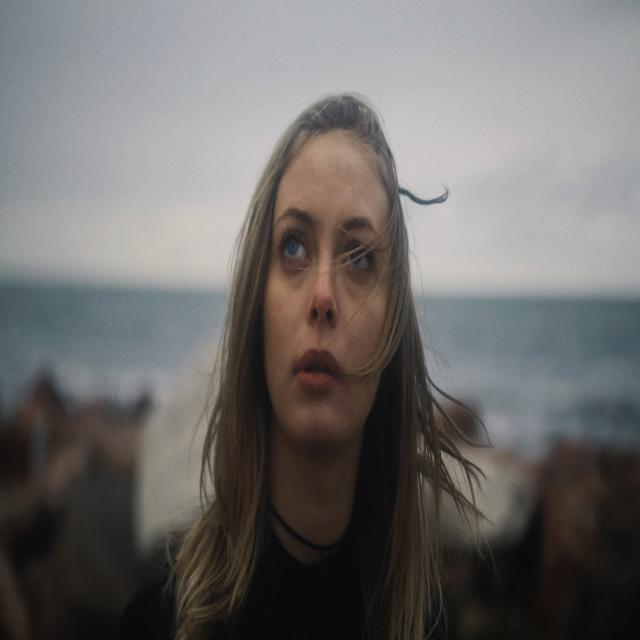adult: (120, 89, 472, 640)
